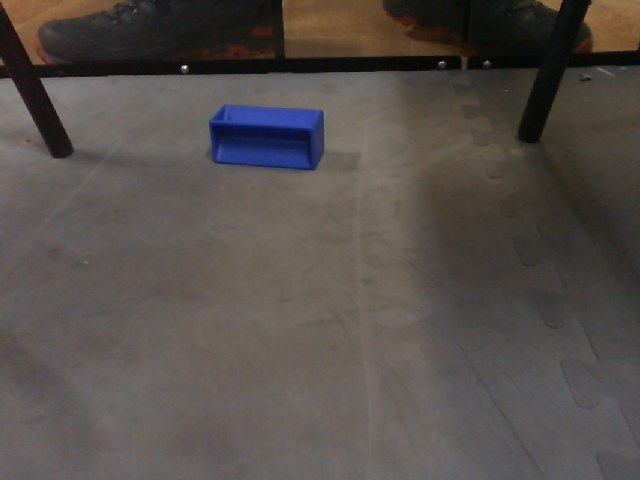BlueSample: (205, 102, 331, 171)
